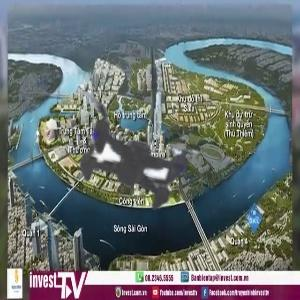drone: (10, 41, 267, 298)
